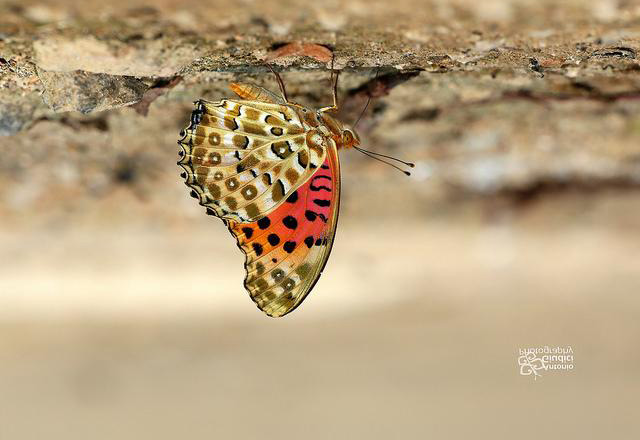Argyreus hyperbius: (172, 52, 416, 317)
butterfly: (174, 54, 418, 319)
